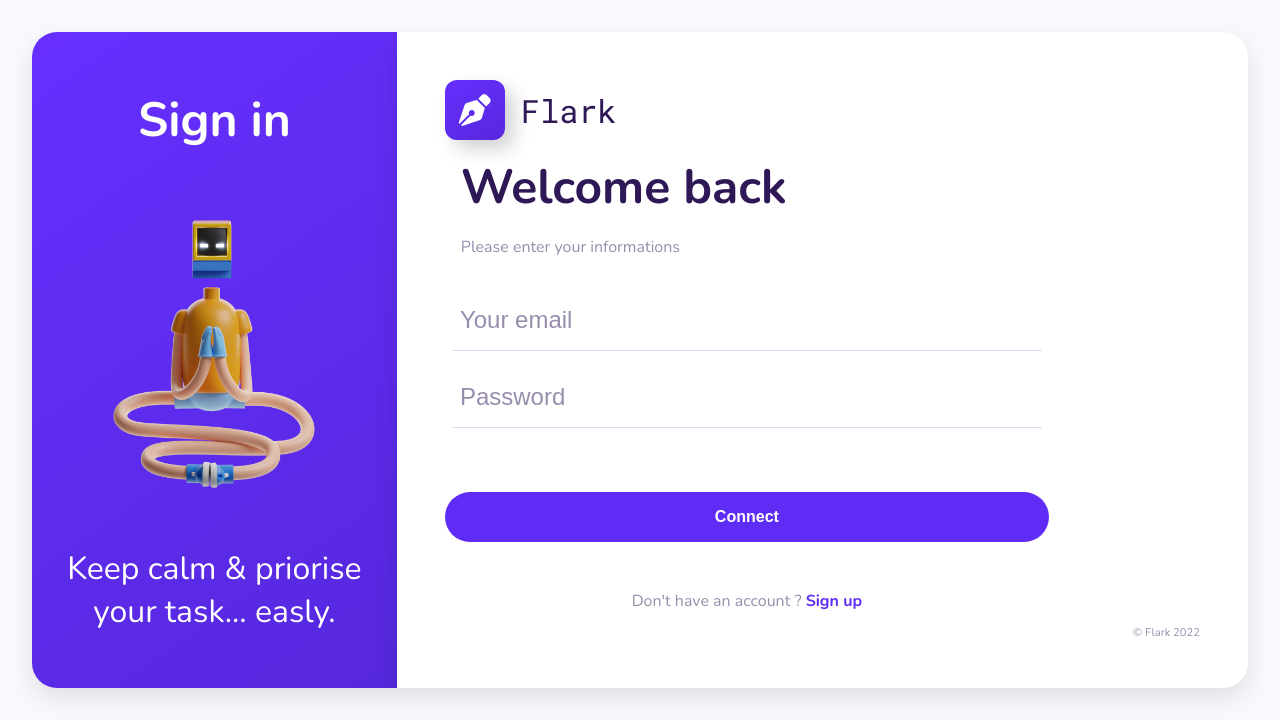
SignIn Integration Tests › should have error message if email is empty but password is complet
Type "azerty" into the password field with placeholder "Password" at (747, 397), box [452,366,1042,428]
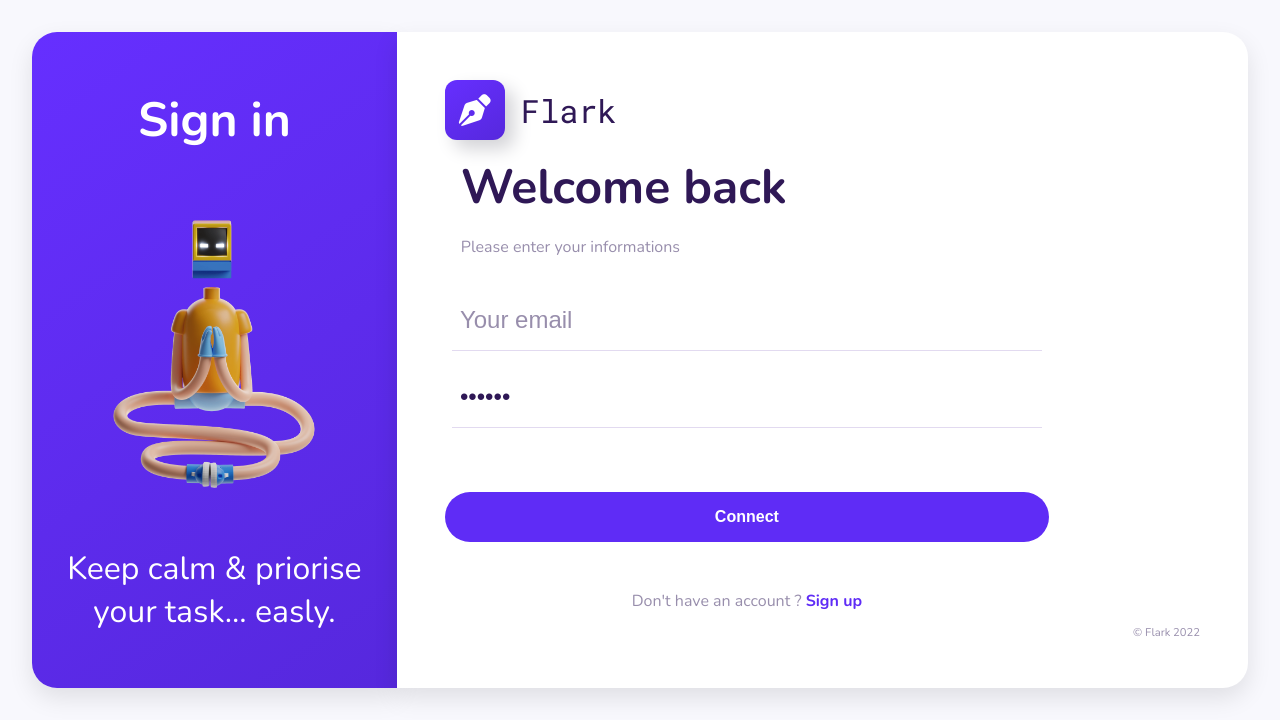
Click the button at (747, 516), box [445,492,1049,542]
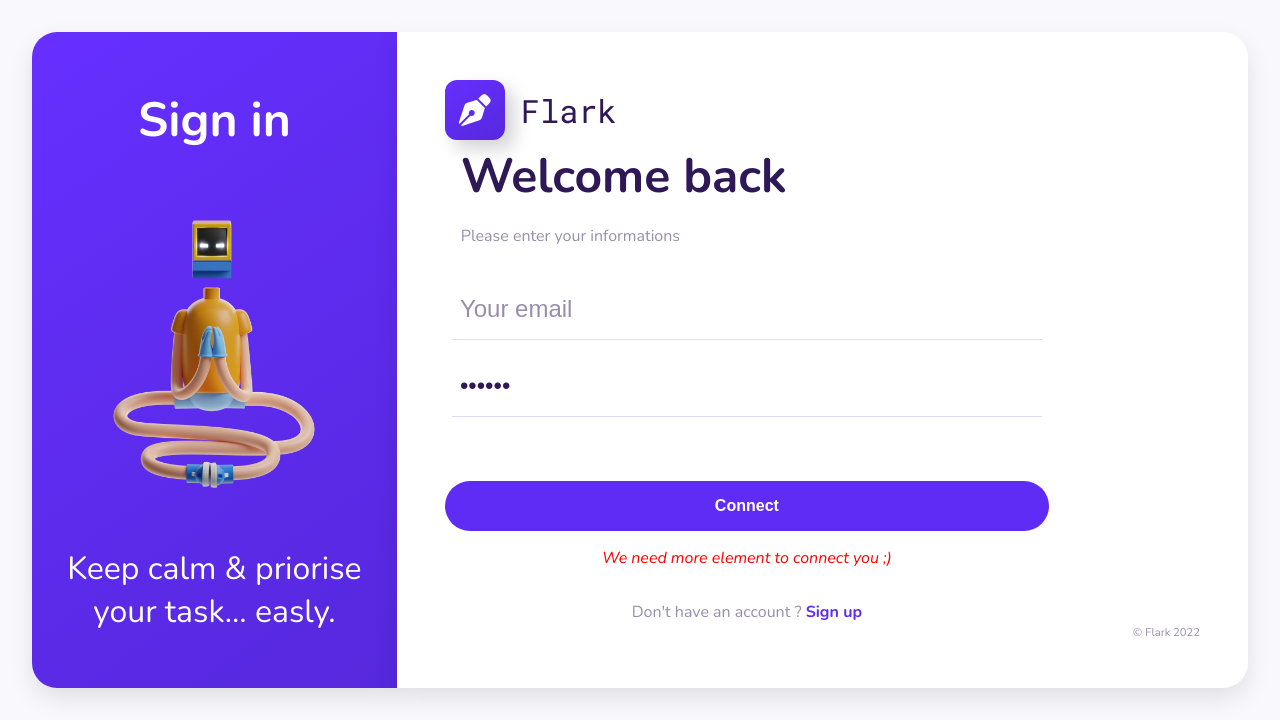
Check: the text with test id "error-message" reads "We need more element to connect you ;)", box [602,546,892,568]
